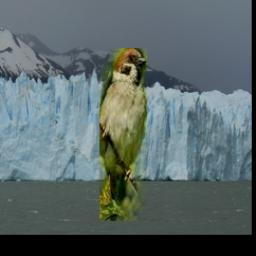Sparrow: (98, 48, 146, 221)
